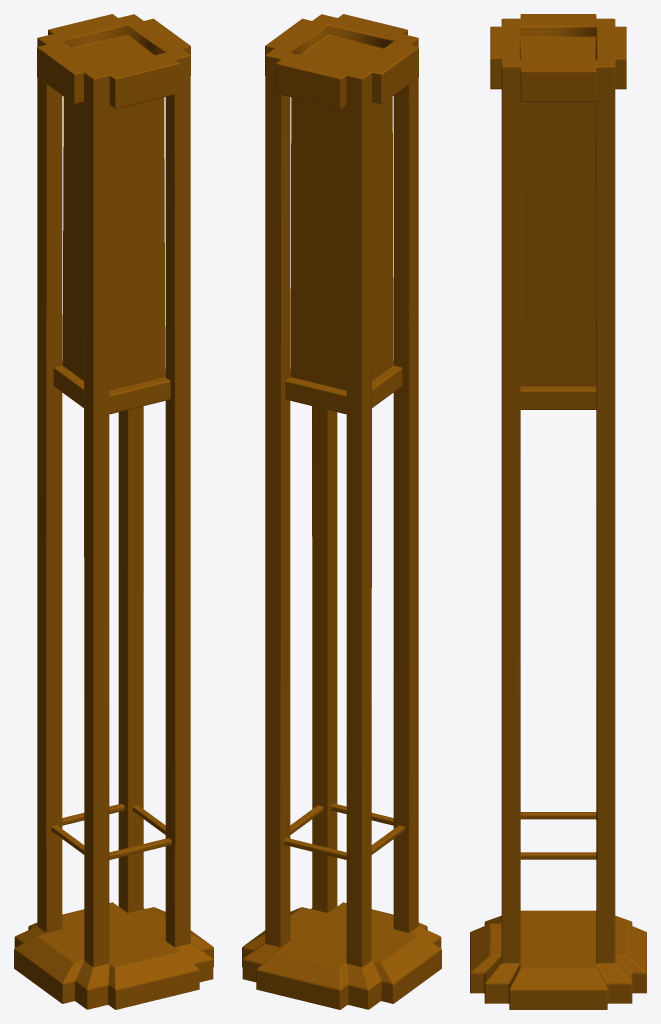
The model's file is Street_Lamp_07.fbx.
3 views of the same model, side by side, from view 1: azimuth 30°, elevation 25°; view 2: azimuth 150°, elevation 25°; view 3: azimuth 270°, elevation 25° (orthographic).
Visible parts, largest first — view 1: Street_Lamp_07; view 2: Street_Lamp_07; view 3: Street_Lamp_07.
Part boxes in pixels (x1,y1,x2,y2): Street_Lamp_07: (14, 14, 213, 1009); Street_Lamp_07: (242, 14, 441, 1009); Street_Lamp_07: (470, 14, 646, 1009).
Size of the model in its own units: 51.84 by 301 by 51.84.
